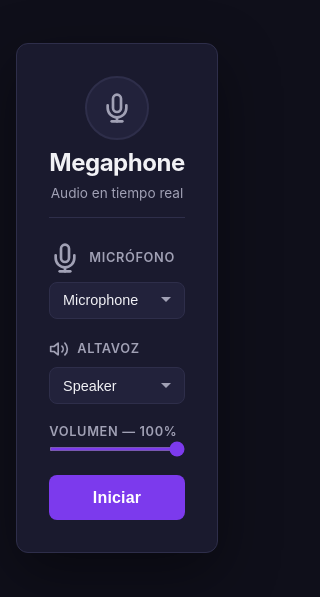
Test case: App Component › shows Iniciar button again after stopping
Click the button "Iniciar" at (117, 498), box [49,475,185,520]
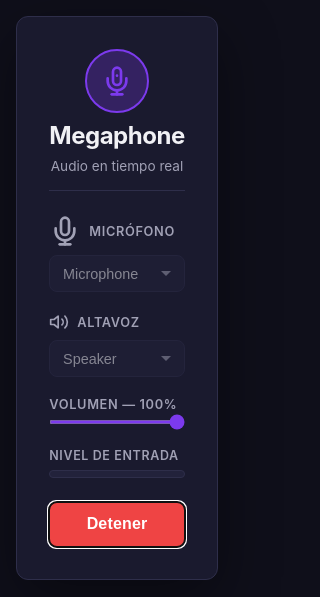
Check: the button "Detener" is shown
Click the button "Detener" at (117, 524), box [49,502,185,547]
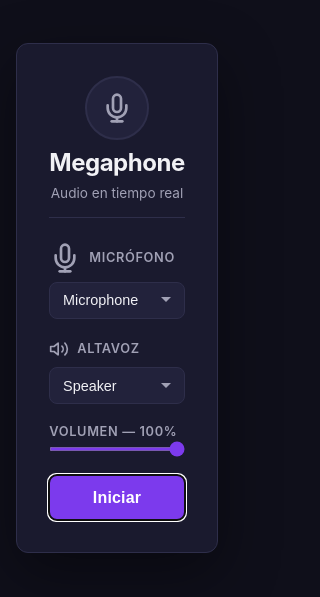
Check: the button "Iniciar" is shown, box [49,475,185,520]
